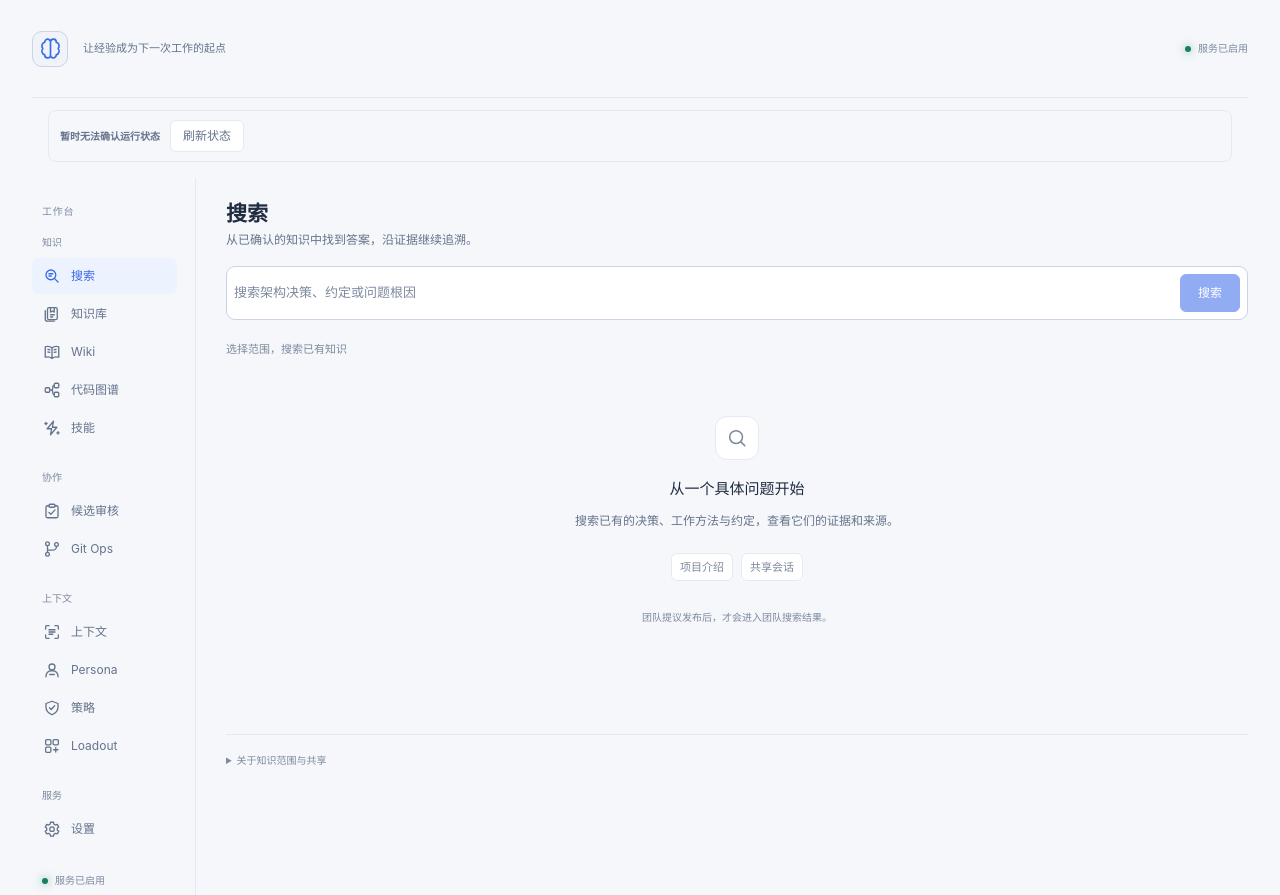
Test: MemoryView › Wiki and CodeGraph tabs share a repository selector without removing existing modules
Step 1. Click the tab with test id "memory-tab-wiki" → (104, 352), box x1=32 y1=334 x2=177 y2=370
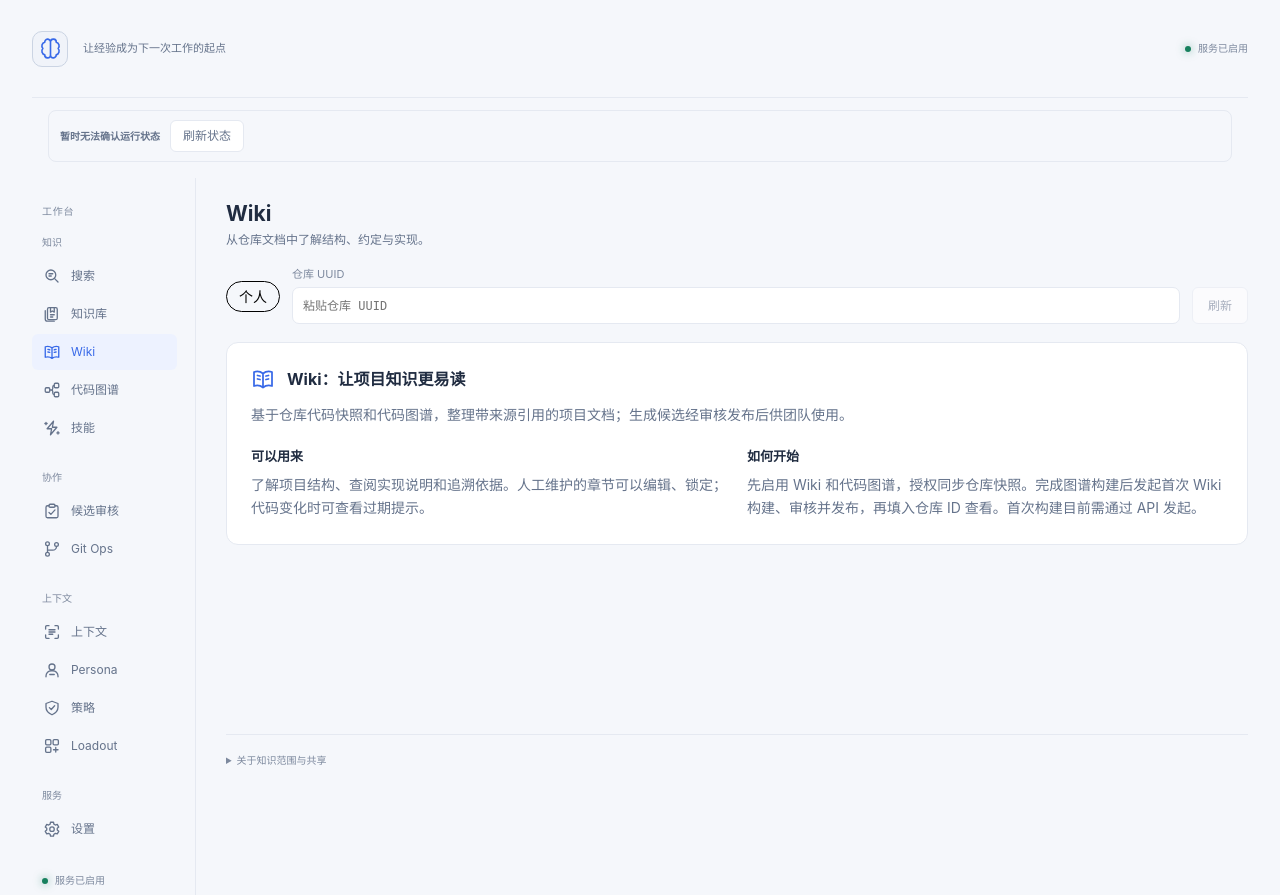
Expected: the element with test id "memory-wiki-panel" is shown, x1=226 y1=266 x2=1248 y2=706
Step 2. Type "11111111-1111-4111-8111-111111111111" into the field with test id "memory-wiki-repository" → (736, 306), box x1=292 y1=287 x2=1180 y2=324
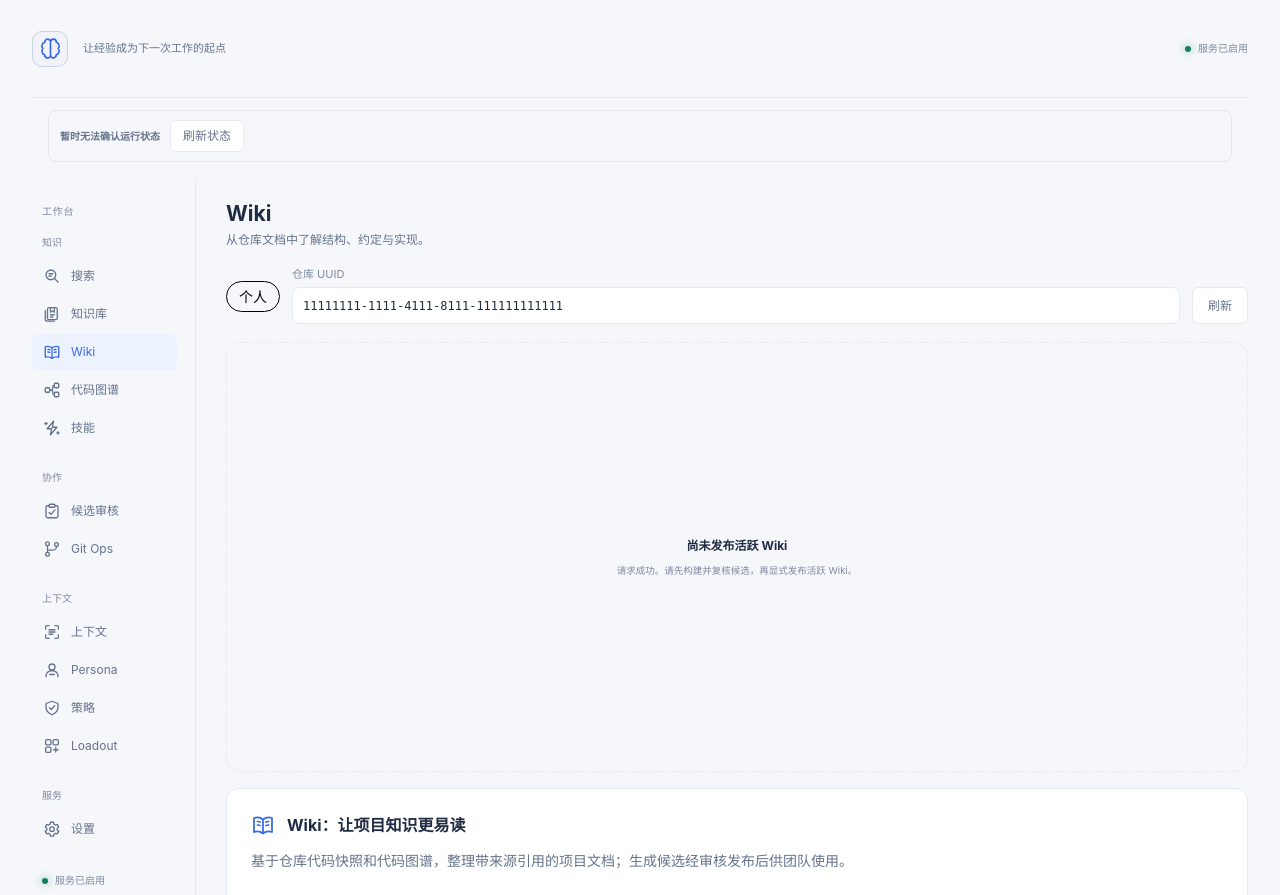
Step 3. Click the tab with test id "memory-tab-codegraph" → (104, 390), box x1=32 y1=372 x2=177 y2=408
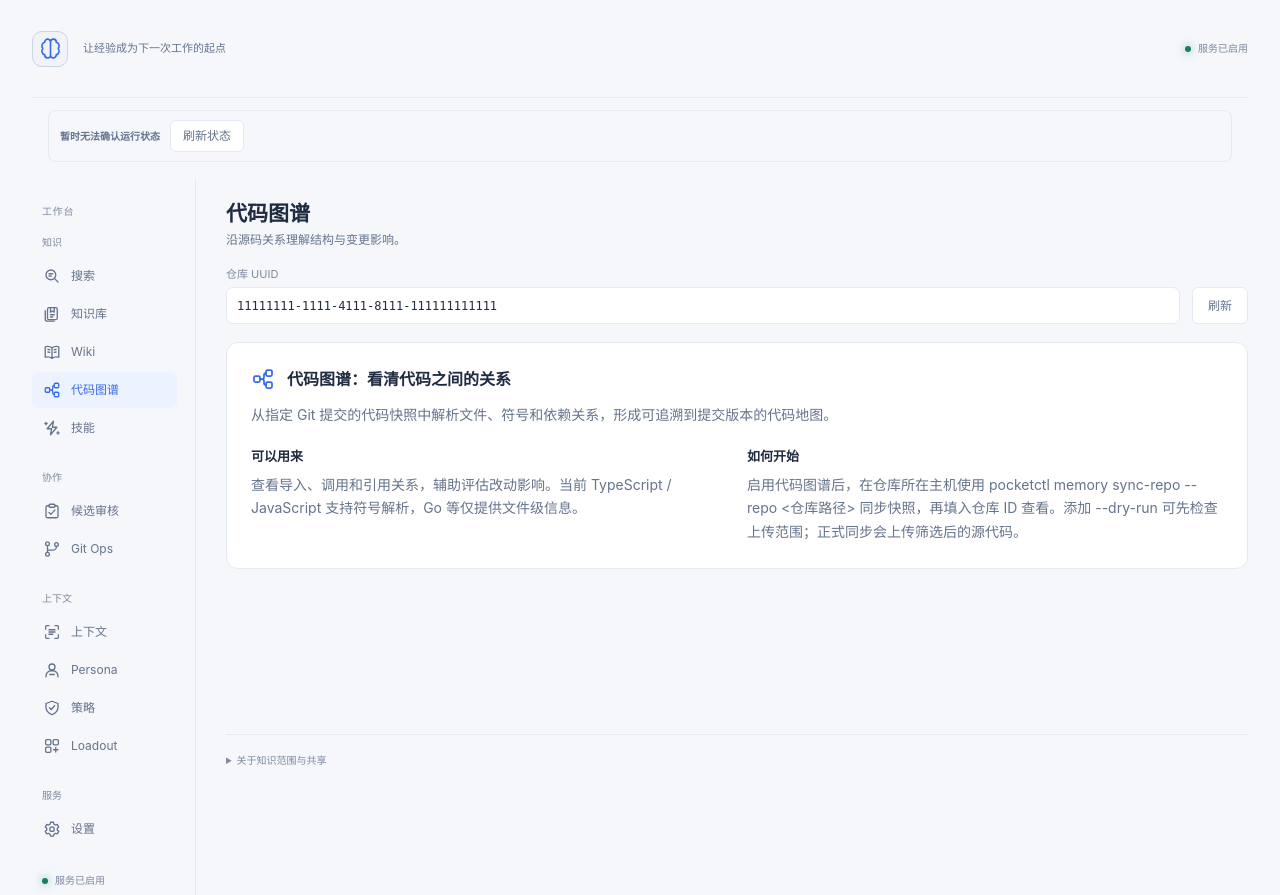
Expected: the tab with test id "memory-tab-search" is shown, x1=32 y1=258 x2=177 y2=294
Expected: the element with test id "memory-codegraph-panel" is shown, x1=226 y1=266 x2=1248 y2=706
Expected: the field with test id "memory-codegraph-repository" holds "11111111-1111-4111-8111-111111111111", x1=226 y1=287 x2=1180 y2=324
